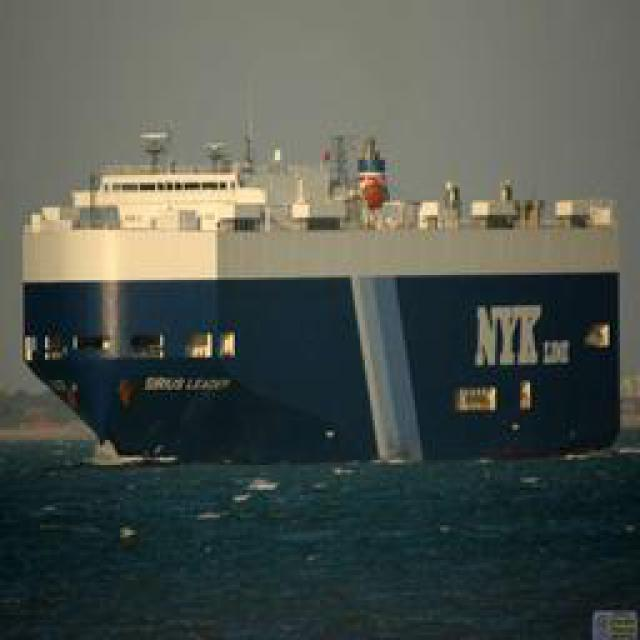Ship: (15, 102, 640, 476)
